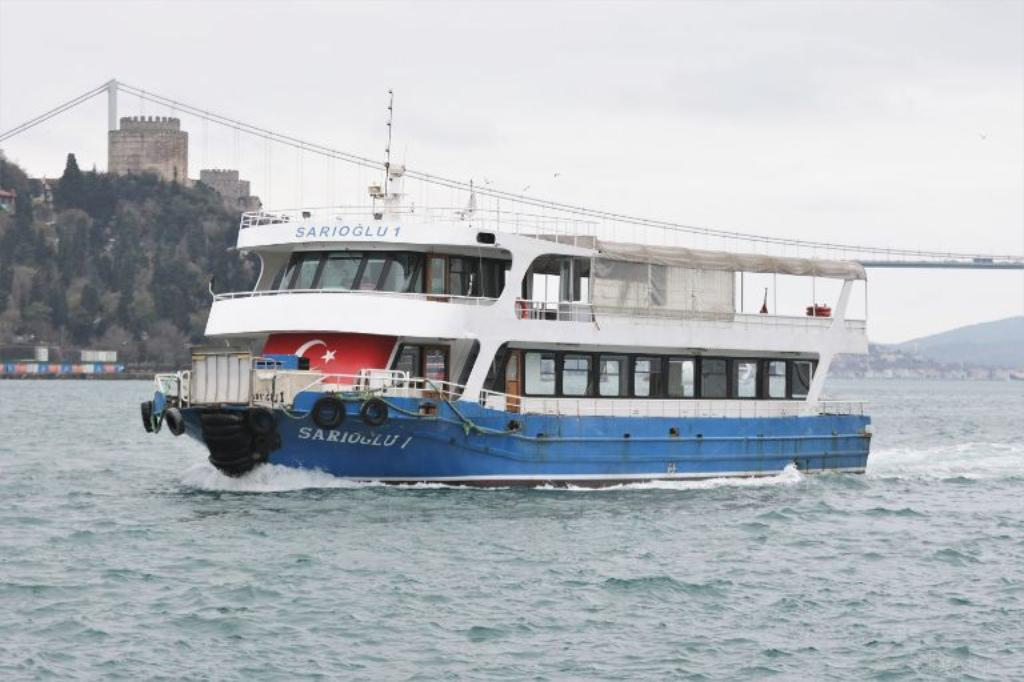PassengerShip: (116, 132, 882, 504)
